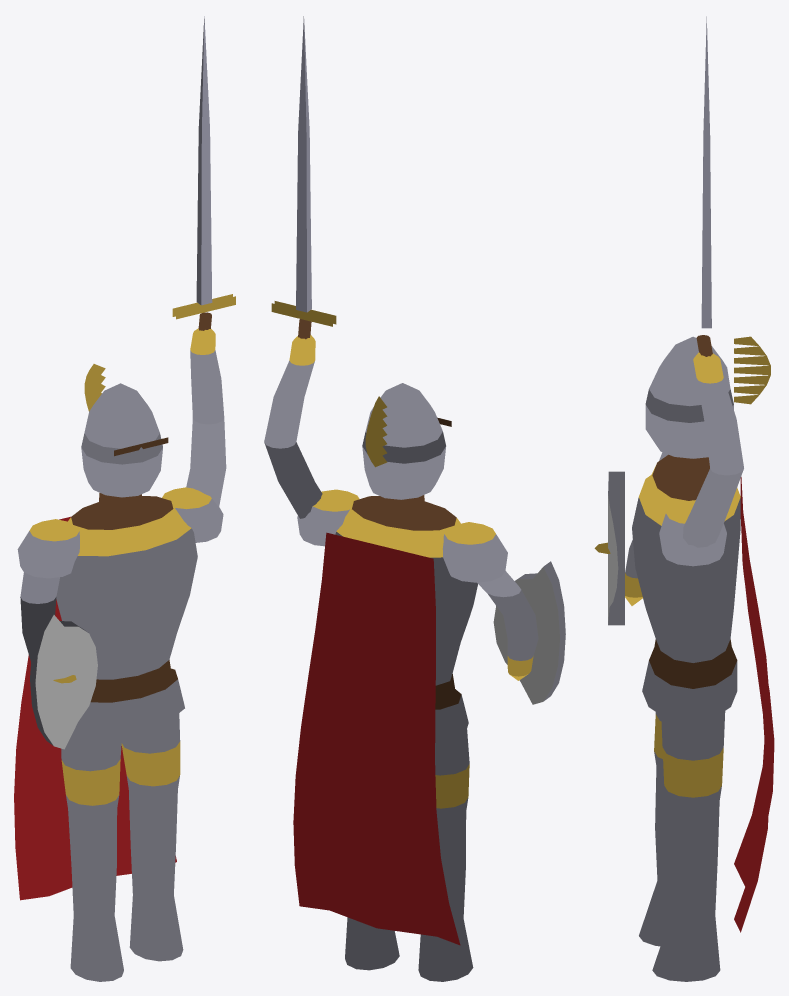
The model's file is fighter.obj.
3 views of the same model, side by side, from view 1: azimuth 30°, elevation 25°; view 2: azimuth 150°, elevation 25°; view 3: azimuth 270°, elevation 25° (orthographic). The views are drawn at different scales.
Size of the model in its own units: 0.888 by 3.2 by 0.5291.
